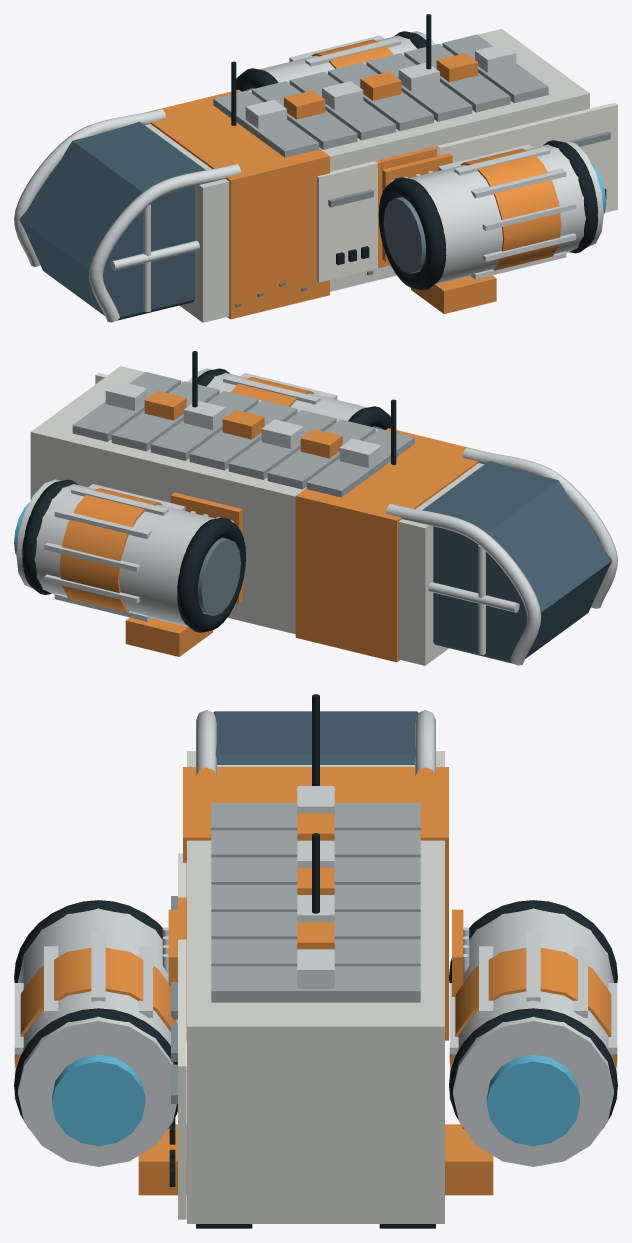
Rendered from ship-hauler.glb.
The picture shows the model from 3 angles, top to bottom: view 1: azimuth 30°, elevation 25°; view 2: azimuth 150°, elevation 25°; view 3: azimuth 270°, elevation 25°; orthographic projection. The views are drawn at different scales.
Parts seen in each view (by area): view 1: hull, cockpit, engine-right, engine-left; view 2: hull, cockpit, engine-left, engine-right; view 3: hull, engine-left, engine-right, exhaust (×2), cockpit.
Part boxes in pixels (bbox=[...]): hull: bbox=[145, 14, 617, 322]; cockpit: bbox=[14, 109, 241, 322]; engine-right: bbox=[378, 140, 603, 290]; engine-left: bbox=[236, 31, 435, 91]; hull: bbox=[30, 351, 484, 665]; cockpit: bbox=[386, 448, 617, 665]; engine-left: bbox=[16, 479, 245, 632]; engine-right: bbox=[188, 368, 390, 430]; hull: bbox=[138, 694, 493, 1228]; engine-left: bbox=[449, 900, 617, 1166]; engine-right: bbox=[14, 900, 177, 1166]; exhaust (×2): bbox=[52, 1054, 579, 1146]; cockpit: bbox=[196, 710, 435, 776].
Bounding box in the file's own units: 5.43 × 2.44 × 3.75.
